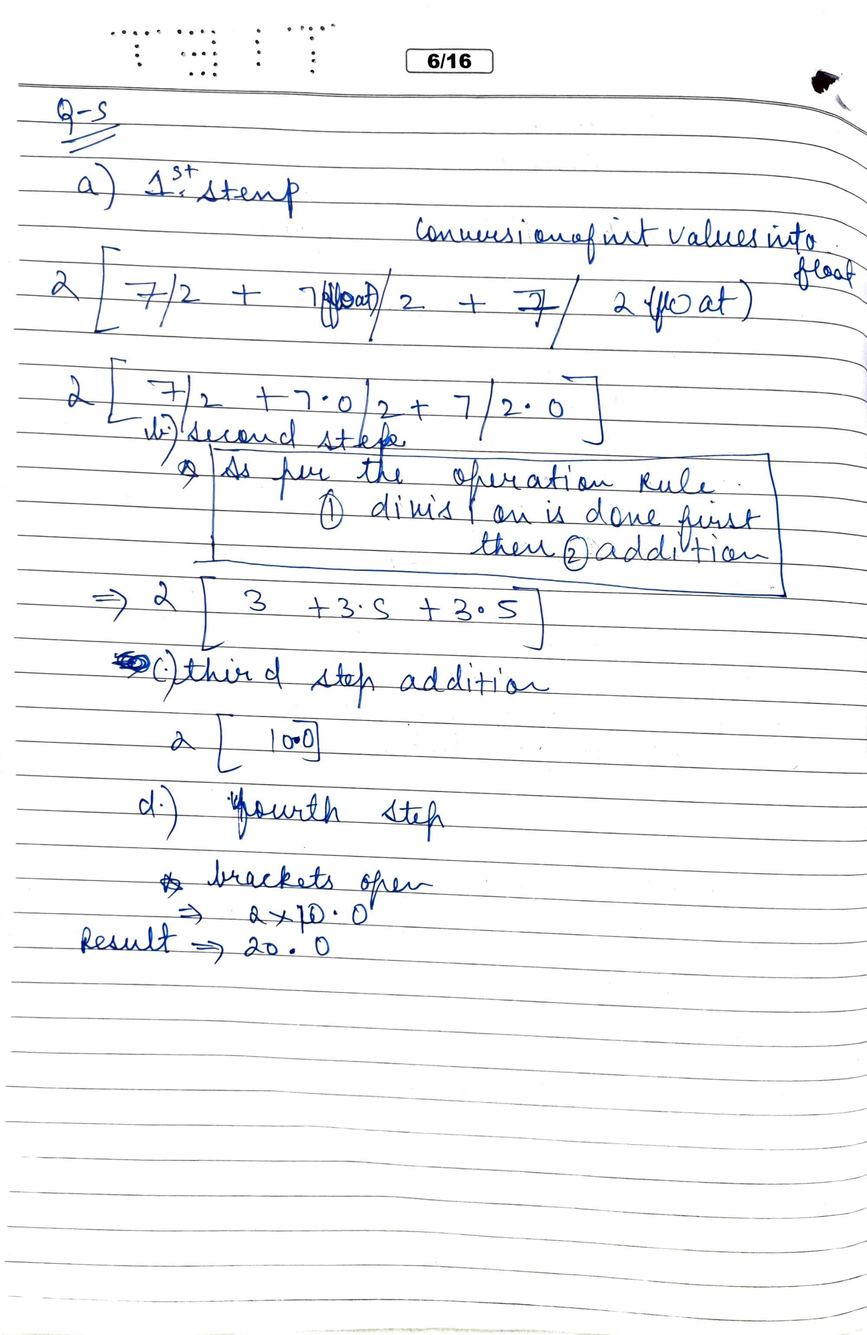cuttings: (111, 651, 152, 680)
